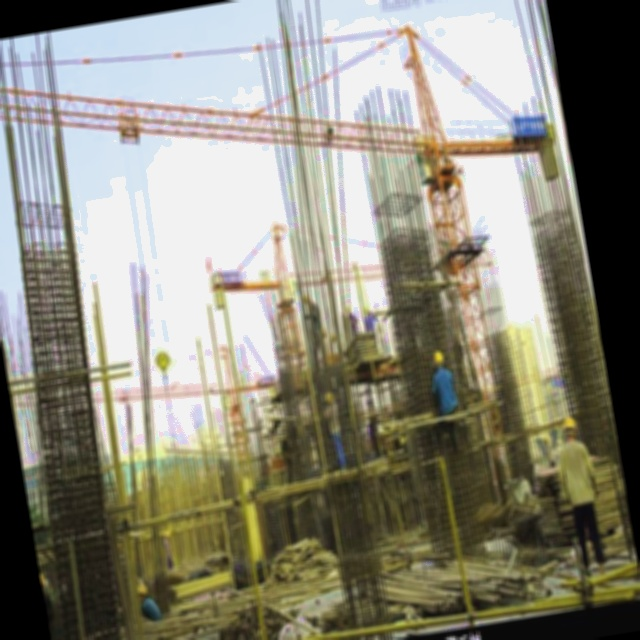Con_Casco: (561, 416, 580, 441), (431, 349, 446, 366)
Sin_Chaleco: (558, 438, 598, 507), (434, 366, 459, 412)
